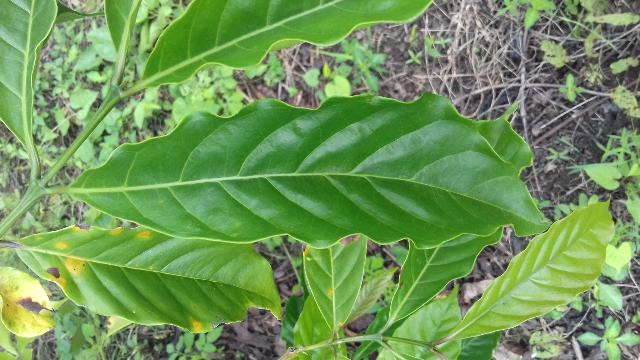healthy: (43, 94, 553, 249)
